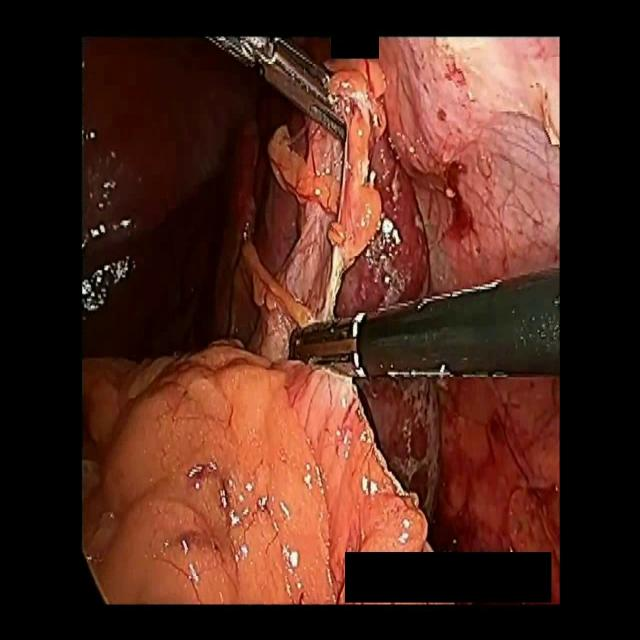surgical-area: (83, 39, 560, 606)
surgical-tool: (286, 265, 560, 377), (206, 37, 350, 144)
